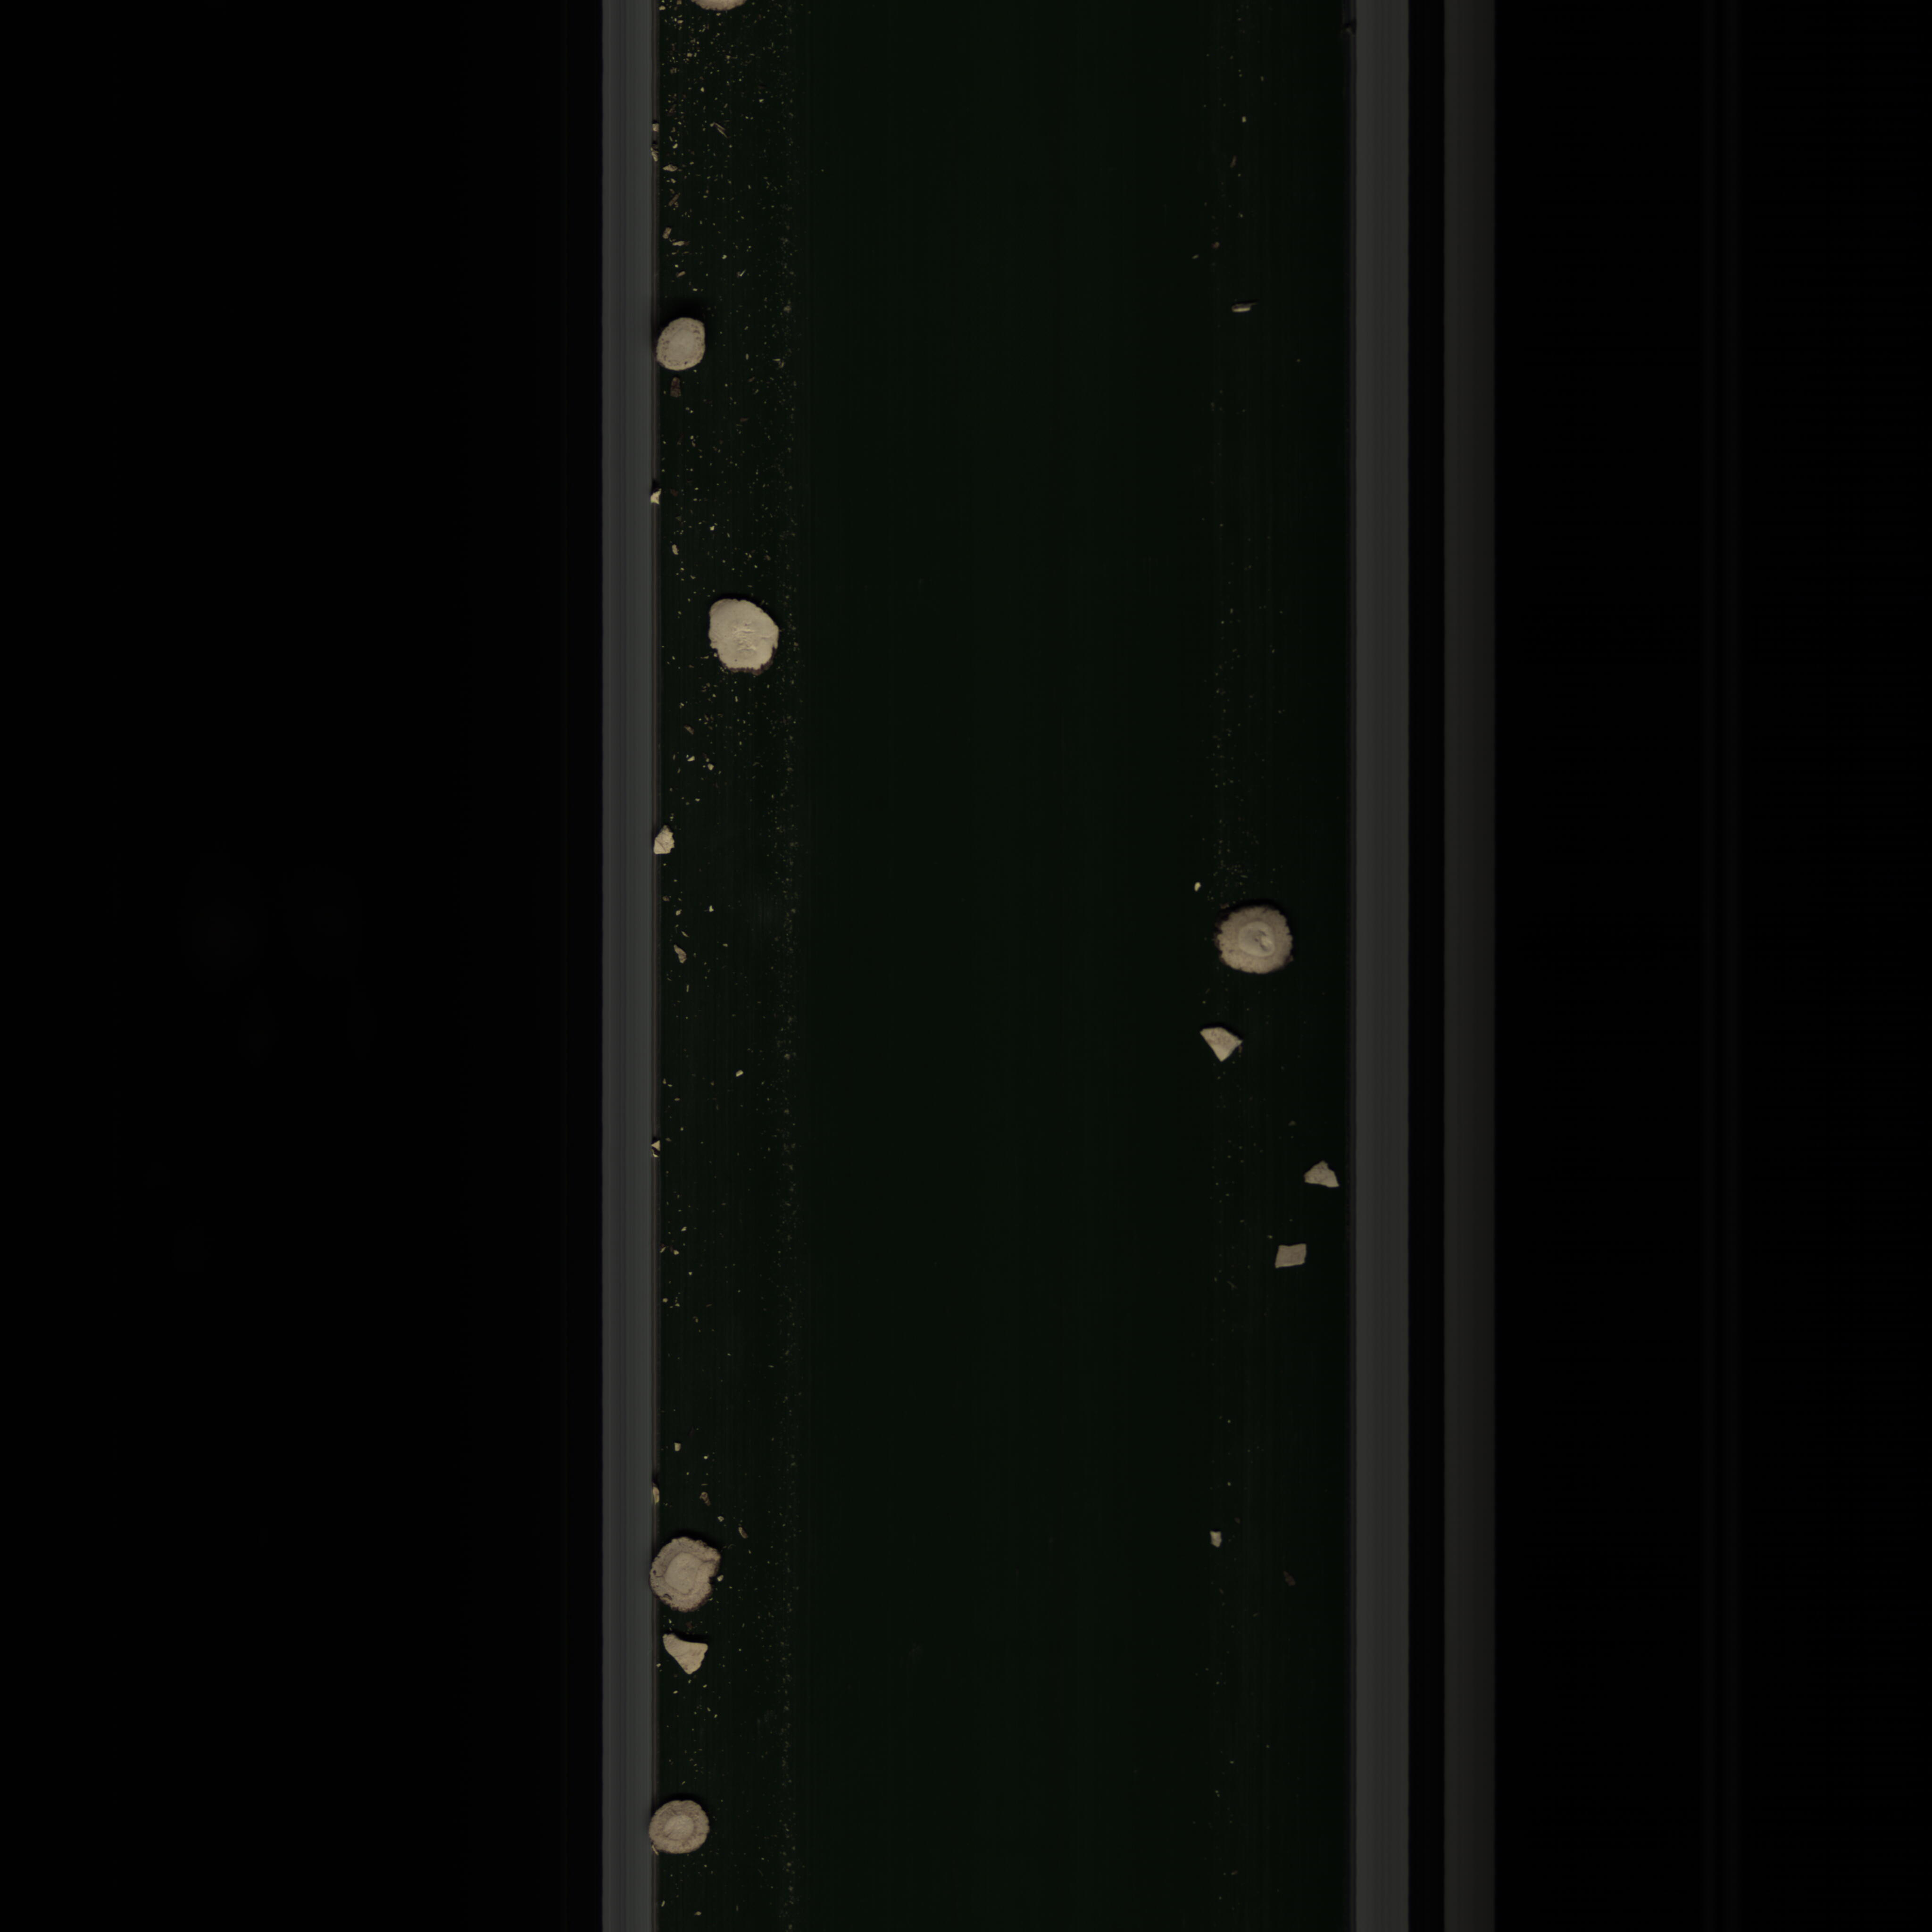debris: (1185, 1017, 1254, 1070), (662, 1626, 715, 1683), (1297, 1154, 1348, 1200), (1267, 1233, 1316, 1274)
